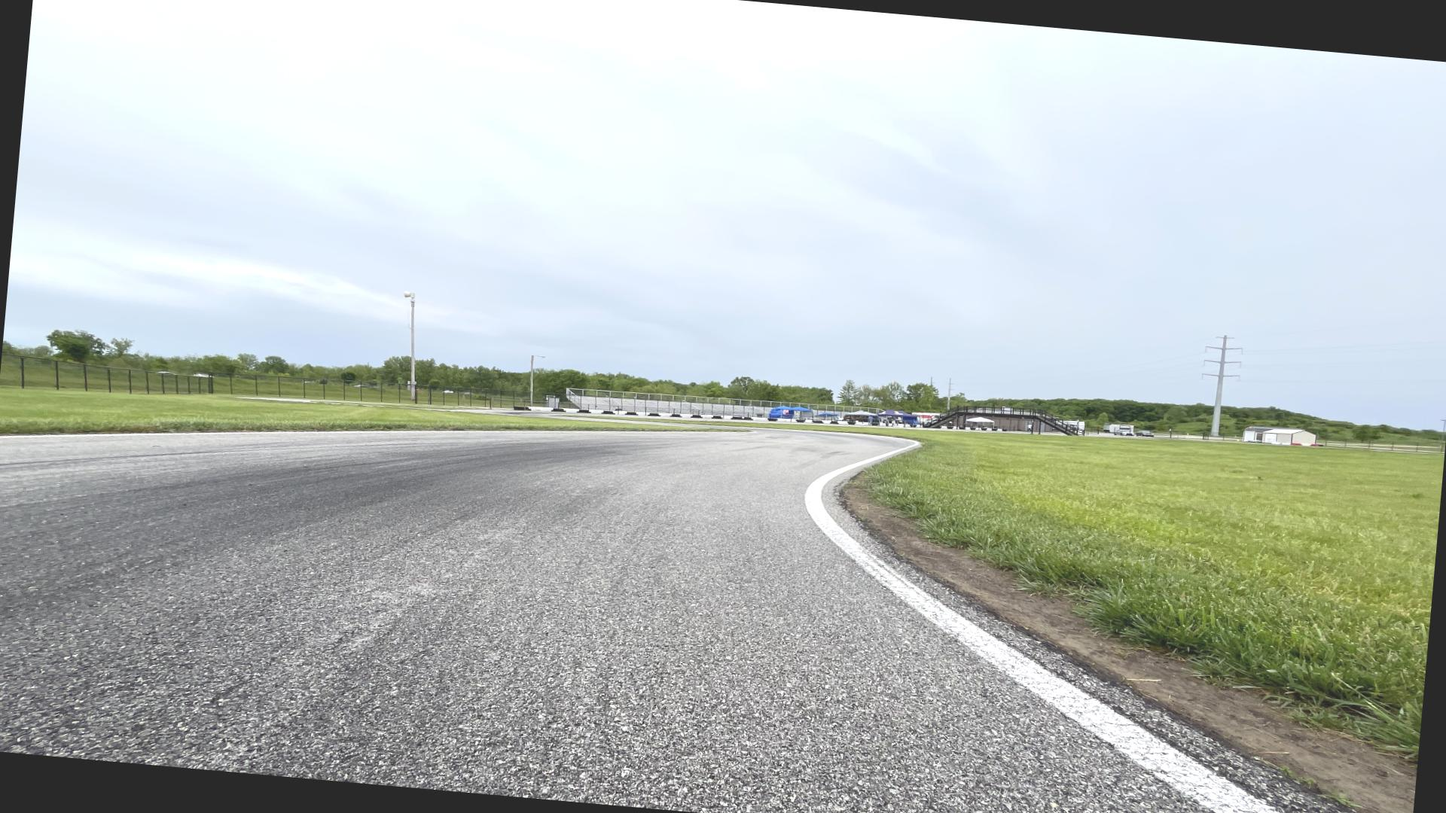white-line: (799, 432, 1282, 812), (0, 431, 752, 438)
